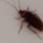cockroach: (18, 9, 43, 33)
